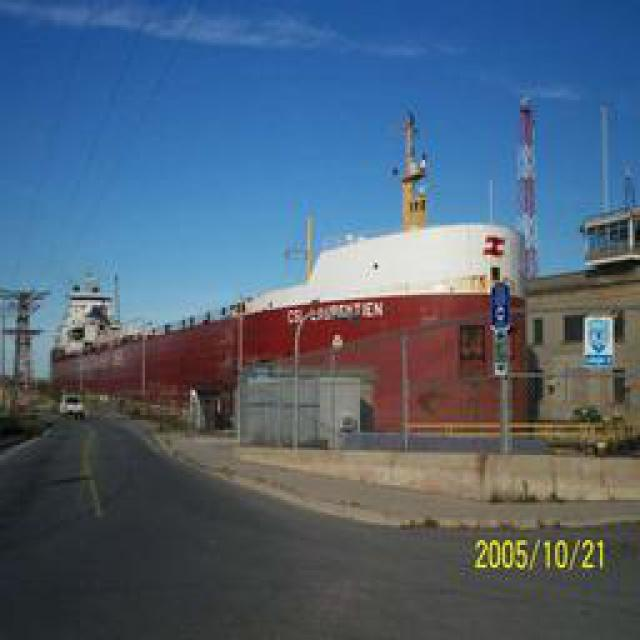Ship: (43, 106, 546, 448)
